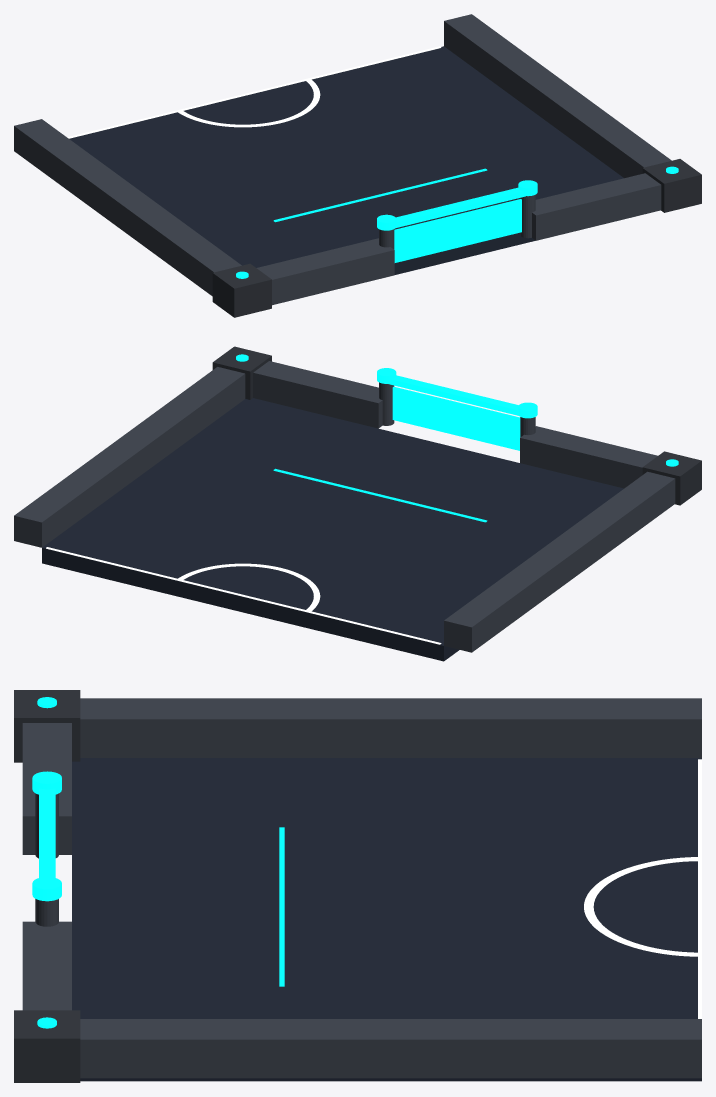
Rendered from mesa_arcade_half_p1.glb.
The picture shows the model from 3 angles, top to bottom: view 1: azimuth 30°, elevation 25°; view 2: azimuth 150°, elevation 25°; view 3: azimuth 270°, elevation 25°; orthographic projection. The views are drawn at different scales.
Visible parts, largest first — view 1: MesaArcadeHalfP1_Surface, MesaArcadeHalfP1_RailL, MesaArcadeHalfP1_RailR, Cube.004, Cube.002, Cube.009, Cube.006, Cube.007, Cube.008, MesaArcadeHalfP1_TopEdgeLaser, MesaArcadeHalfP1_CenterArcOuter, MesaArcadeHalfP1_Crease (+1 smaller); view 2: MesaArcadeHalfP1_Surface, MesaArcadeHalfP1_RailL, MesaArcadeHalfP1_RailR, Cube.004, Cube.002, Cube.009, Cube.006, Cube.008, Cube.007, MesaArcadeHalfP1_TopEdgeLaser, MesaArcadeHalfP1_CenterArcOuter, MesaArcadeHalfP1_Crease (+1 smaller); view 3: MesaArcadeHalfP1_Surface, MesaArcadeHalfP1_RailL, MesaArcadeHalfP1_RailR, Cube.007, Cube.002, Cube.004, Cube.006, MesaArcadeHalfP1_CenterArcOuter, Cube.008, MesaArcadeHalfP1_TopEdgeLaser, MesaArcadeHalfP1_Crease, Cylinder.005 (+1 smaller).
Boxes of the visible parts, bbox=[...] form: MesaArcadeHalfP1_Surface: bbox=[69, 46, 623, 274]; MesaArcadeHalfP1_RailL: bbox=[14, 119, 241, 296]; MesaArcadeHalfP1_RailR: bbox=[444, 14, 671, 178]; Cube.004: bbox=[532, 173, 661, 240]; Cube.002: bbox=[256, 238, 394, 305]; Cube.009: bbox=[394, 199, 521, 262]; Cube.006: bbox=[212, 263, 271, 317]; Cube.007: bbox=[642, 159, 701, 212]; Cube.008: bbox=[395, 187, 525, 228]; MesaArcadeHalfP1_TopEdgeLaser: bbox=[67, 46, 441, 138]; MesaArcadeHalfP1_CenterArcOuter: bbox=[178, 79, 320, 127]; MesaArcadeHalfP1_Crease: bbox=[273, 168, 487, 222]; MesaArcadeHalfP1_Surface: bbox=[42, 398, 623, 661]; MesaArcadeHalfP1_RailL: bbox=[444, 471, 675, 652]; MesaArcadeHalfP1_RailR: bbox=[14, 367, 245, 547]; Cube.004: bbox=[253, 361, 382, 428]; Cube.002: bbox=[520, 426, 657, 488]; Cube.009: bbox=[392, 386, 520, 450]; Cube.006: bbox=[642, 451, 701, 505]; Cube.008: bbox=[389, 375, 518, 415]; Cube.007: bbox=[212, 346, 271, 399]; MesaArcadeHalfP1_TopEdgeLaser: bbox=[46, 547, 441, 644]; MesaArcadeHalfP1_CenterArcOuter: bbox=[178, 563, 320, 611]; MesaArcadeHalfP1_Crease: bbox=[273, 468, 487, 522]; MesaArcadeHalfP1_Surface: bbox=[72, 758, 701, 1081]; MesaArcadeHalfP1_RailL: bbox=[80, 698, 701, 757]; MesaArcadeHalfP1_RailR: bbox=[80, 1019, 701, 1078]; Cube.007: bbox=[14, 1010, 80, 1082]; Cube.002: bbox=[22, 723, 71, 854]; Cube.004: bbox=[22, 921, 71, 1010]; Cube.006: bbox=[14, 690, 80, 762]; MesaArcadeHalfP1_CenterArcOuter: bbox=[584, 857, 697, 956]; Cube.008: bbox=[39, 788, 55, 877]; MesaArcadeHalfP1_TopEdgeLaser: bbox=[698, 759, 701, 1018]; MesaArcadeHalfP1_Crease: bbox=[279, 827, 284, 986]; Cylinder.005: bbox=[32, 877, 61, 901].
Size of the model in its own units: 1.26 by 0.17 by 1.05.
